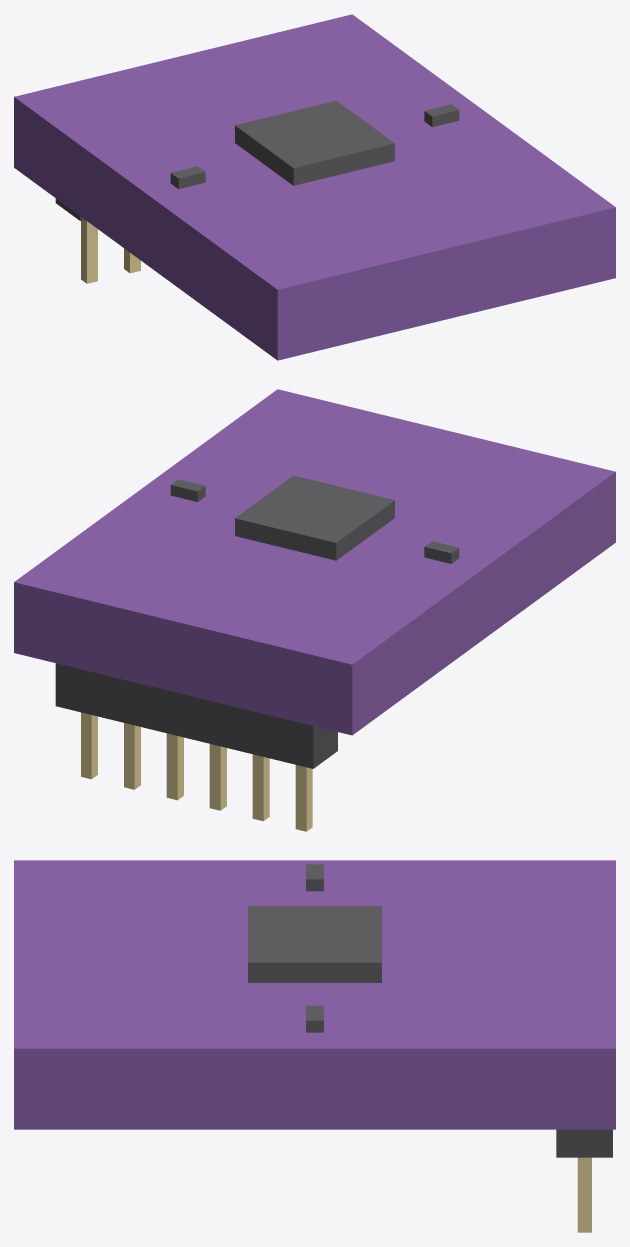
The model's file is bno055.glb.
The picture shows the model from 3 angles, top to bottom: view 1: azimuth 30°, elevation 25°; view 2: azimuth 150°, elevation 25°; view 3: azimuth 270°, elevation 25°; orthographic projection. The views are drawn at different scales.
Parts seen in each view (by area): view 1: bno055-pcb, bno055-ic, bno055-pins; view 2: bno055-pcb, bno055-plastic, bno055-ic, bno055-pins; view 3: bno055-pcb, bno055-ic, bno055-plastic, bno055-pins.
Part boxes in pixels (x1=…): bno055-pcb: x1=14, y1=14, x2=615, y2=360; bno055-ic: x1=170, y1=100, x2=459, y2=188; bno055-pins: x1=81, y1=220, x2=140, y2=283; bno055-pcb: x1=14, y1=389, x2=615, y2=735; bno055-plastic: x1=55, y1=663, x2=337, y2=768; bno055-ic: x1=170, y1=475, x2=459, y2=563; bno055-pins: x1=81, y1=712, x2=312, y2=831; bno055-pcb: x1=14, y1=860, x2=615, y2=1129; bno055-ic: x1=248, y1=864, x2=381, y2=1032; bno055-plastic: x1=556, y1=1129, x2=612, y2=1157; bno055-pins: x1=577, y1=1157, x2=591, y2=1232.
Bounding box in the file's own units: 0.02 × 0.0116 × 0.027.
